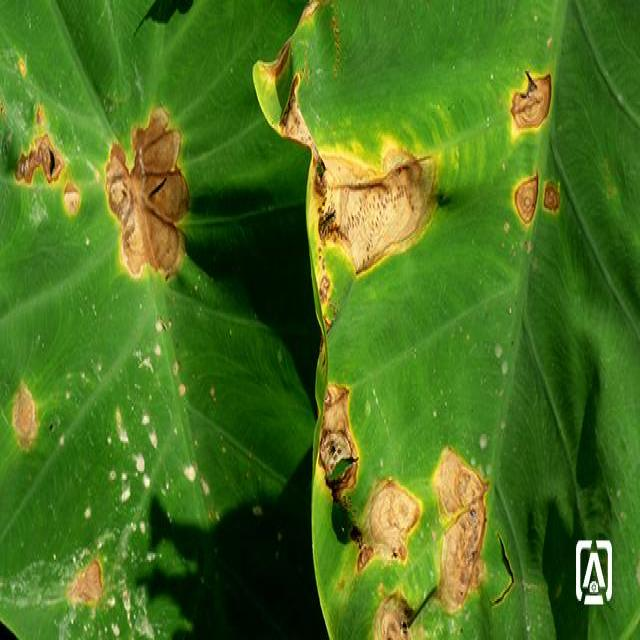blight: (331, 352, 507, 640), (314, 89, 459, 305), (96, 97, 224, 276)
